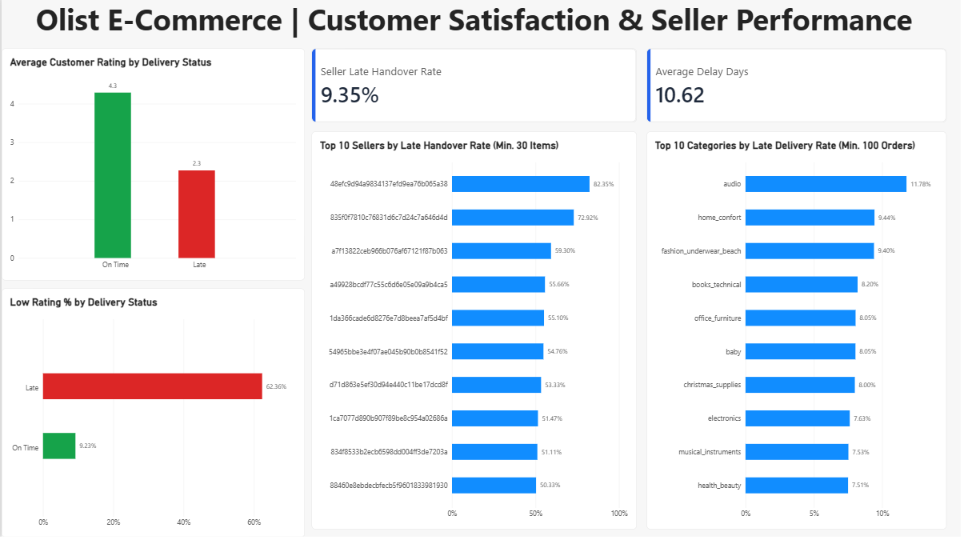

The dashboard page shown, as its layout file describes it:
{"tool":"powerbi","page":{"name":"Customer Satisfaction & Seller Performance","canvas":[1920,1080],"ordinal":1},"visuals":[{"type":"clusteredColumnChart","title":"Average Customer Rating by Delivery Status","fields":{"Category":["public orders.Delivery Status"],"Y":["Avg(public orders.Average Review Score)"]},"box":[0,100,606,464],"z":0},{"type":"clusteredBarChart","fields":{"Category":["public orders.Delivery Status"],"Y":["All Measures.Low Rating %"]},"box":[0,580,606,500],"z":1},{"type":"cardVisual","fields":{"Data":["All Measures.Average Delay Days"]},"box":[1290,100,600,148],"z":2},{"type":"cardVisual","fields":{"Data":["All Measures.Seller Late Handover Rate"]},"box":[620,100,650,148],"z":3},{"type":"clusteredBarChart","title":"Top 10 Sellers by Late Handover Rate (Min. 30 Items)","fields":{"Category":["public sellers.seller_id"],"Y":["All Measures.Seller Late Handover % (Min 30)"]},"box":[620,266,650,796],"z":4},{"type":"clusteredBarChart","title":"Top 10 Categories by Late Delivery Rate (Min. 100 Orders)","fields":{"Category":["public product_category_translation.product_category_name_english"],"Y":["All Measures.Category Late Delivery Rate (Min 100)"]},"box":[1290,266,600,796],"z":5},{"type":"textbox","box":[0,0,1890,80],"z":9}]}

Visuals, with their boxes in screenshot pixels (x1, y1, x2, y2), scaled from the page's 1920x1080 canvas onto the 961x537 screenshot:
"Average Customer Rating by Delivery Status" clusteredColumnChart: l=0, t=50, r=303, b=280
clusteredBarChart - public orders.Delivery Status x All Measures.Low Rating %: l=0, t=288, r=303, b=536
cardVisual - All Measures.Average Delay Days: l=646, t=50, r=946, b=123
cardVisual - All Measures.Seller Late Handover Rate: l=310, t=50, r=636, b=123
"Top 10 Sellers by Late Handover Rate (Min. 30 Items)" clusteredBarChart: l=310, t=132, r=636, b=528
"Top 10 Categories by Late Delivery Rate (Min. 100 Orders)" clusteredBarChart: l=646, t=132, r=946, b=528
textbox: l=0, t=0, r=946, b=40
